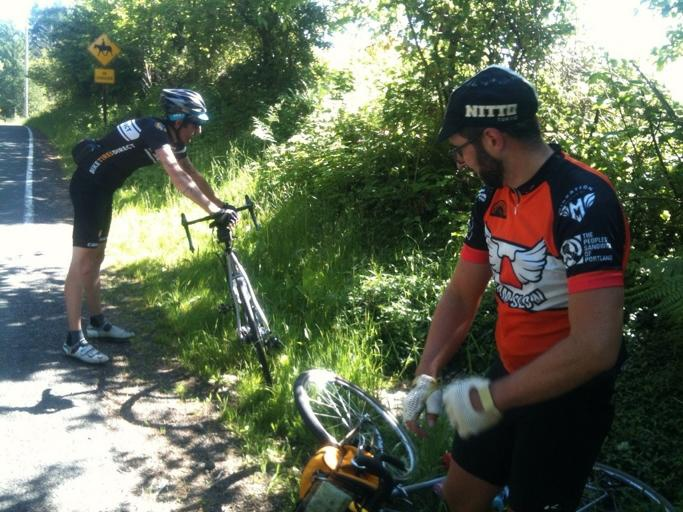non-vehicle: (284, 361, 679, 512), (179, 187, 280, 390)
